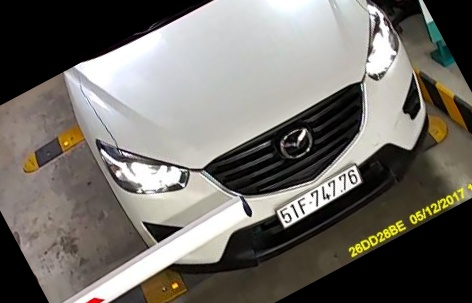plate: (270, 167, 369, 225)
